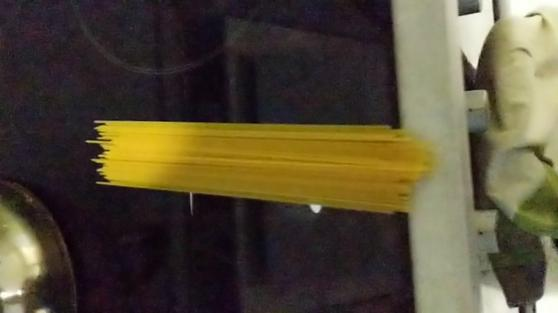spaghetti: (73, 107, 455, 229)
